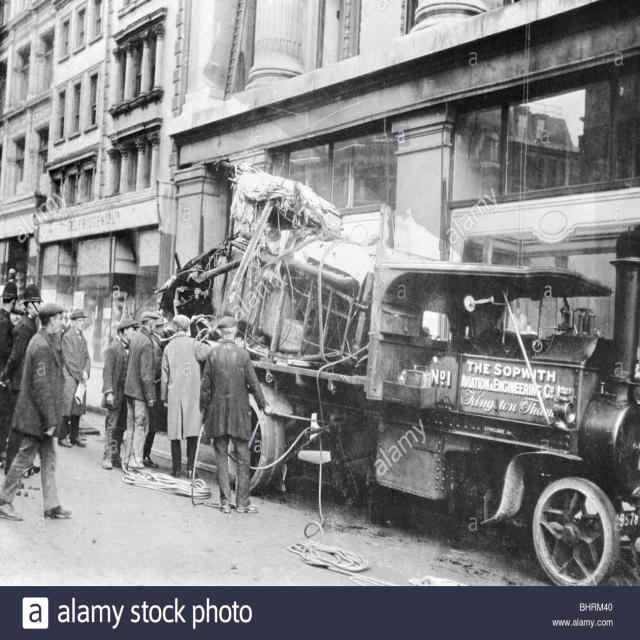body: (0, 300, 74, 523), (198, 314, 276, 516), (158, 313, 224, 482), (0, 280, 46, 480), (120, 308, 162, 474), (101, 317, 140, 470), (56, 307, 94, 450), (477, 290, 559, 349), (141, 309, 170, 471), (0, 279, 20, 469), (4, 299, 28, 326), (56, 307, 73, 345), (112, 320, 130, 354)
